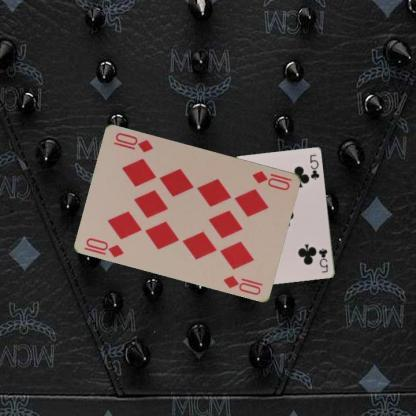10d: (250, 168, 294, 192), (84, 234, 126, 258)
5c: (315, 245, 330, 274)
